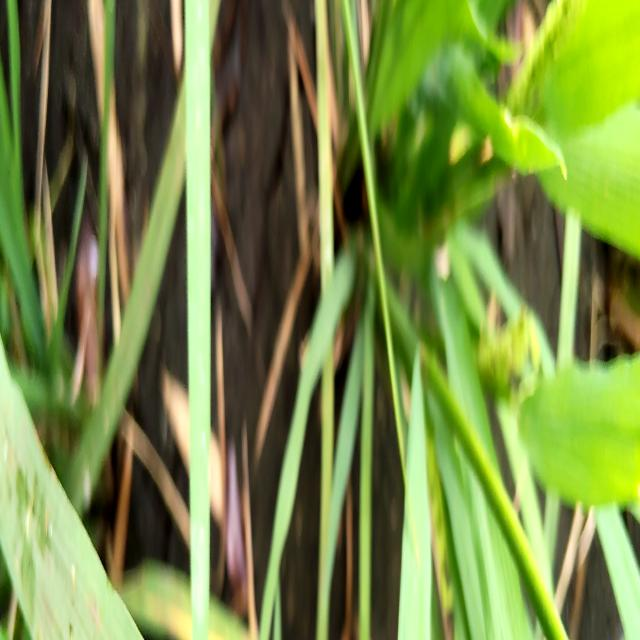NBS: (86, 593, 103, 638)
